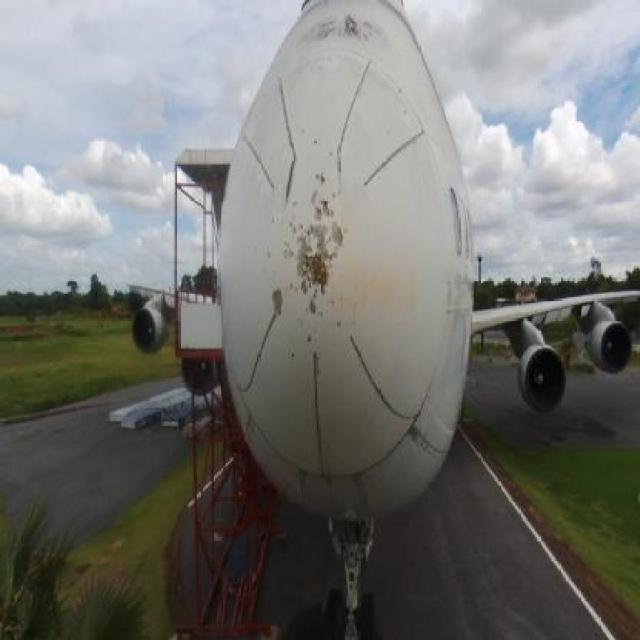Rust: (299, 16, 401, 58), (342, 259, 409, 318), (300, 246, 334, 300)
Scartch: (291, 204, 346, 322), (264, 278, 291, 325), (401, 416, 424, 456)
